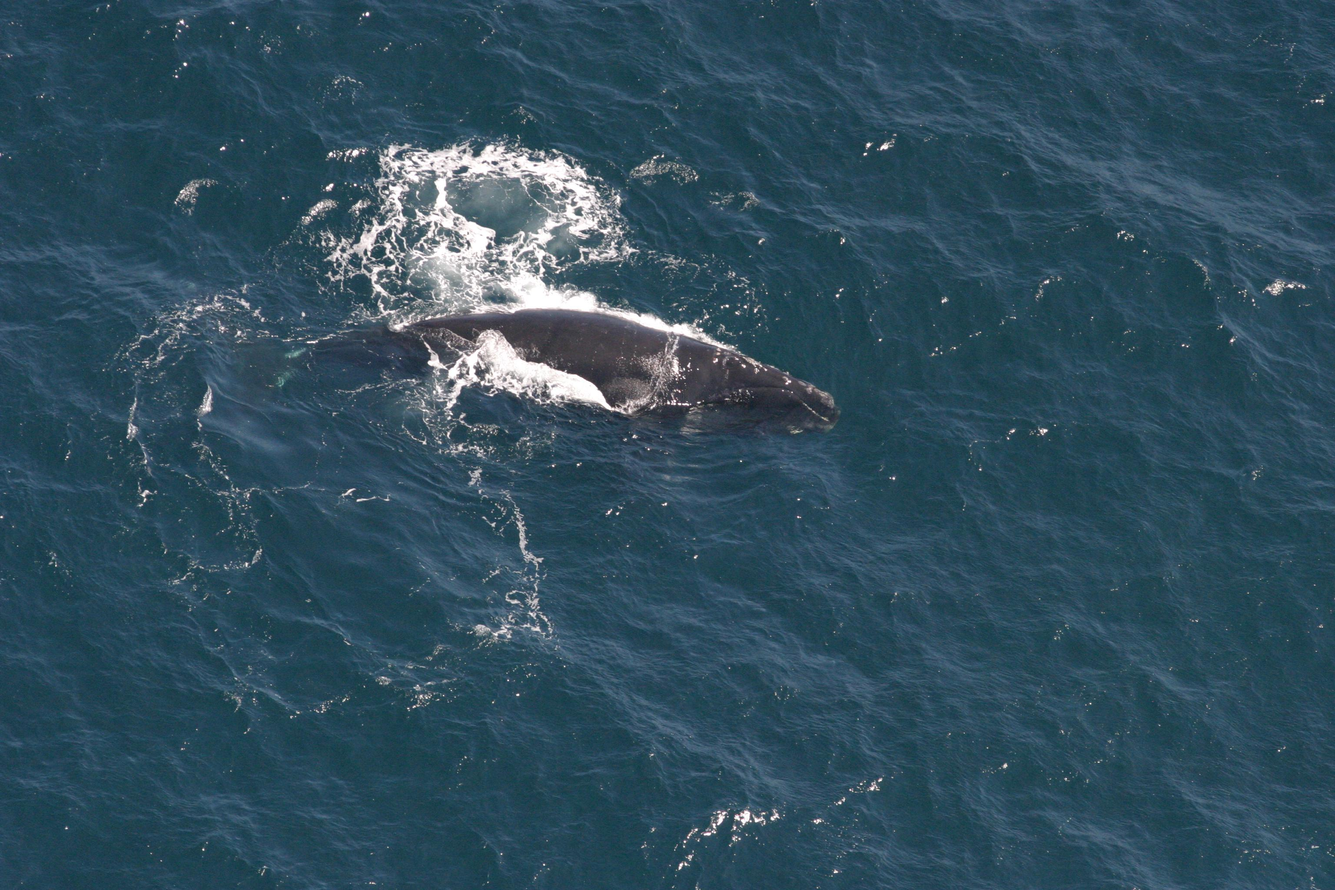whale: (203, 265, 845, 457)
